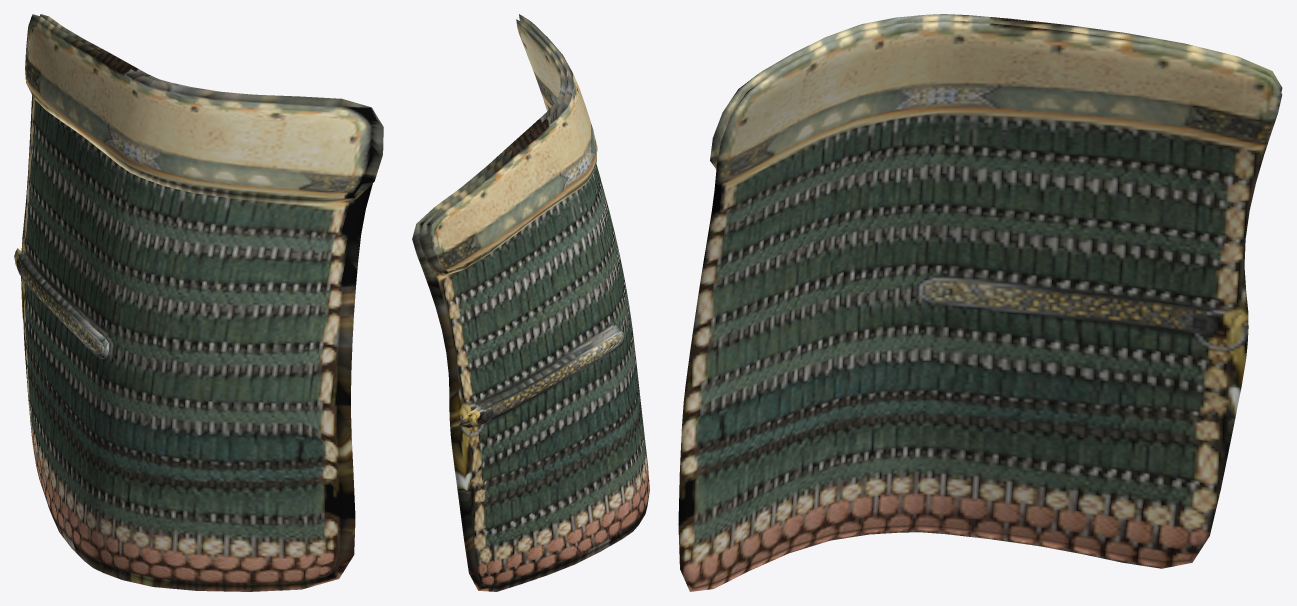
Rendered from armor_kata_L.fbx.
3 renders of one model, left to right at view 1: azimuth 30°, elevation 25°; view 2: azimuth 150°, elevation 25°; view 3: azimuth 270°, elevation 25°, orthographic. The views are drawn at different scales.
Visible parts, largest first — view 1: armor_kata_L; view 2: armor_kata_L; view 3: armor_kata_L.
Part boxes in pixels (x1,y1,x2,y2): armor_kata_L: [14, 14, 383, 591]; armor_kata_L: [412, 14, 649, 591]; armor_kata_L: [678, 14, 1282, 591].
Size of the model in its own units: 22.4 by 48.96 by 46.54.
1 material, 1 textured.
